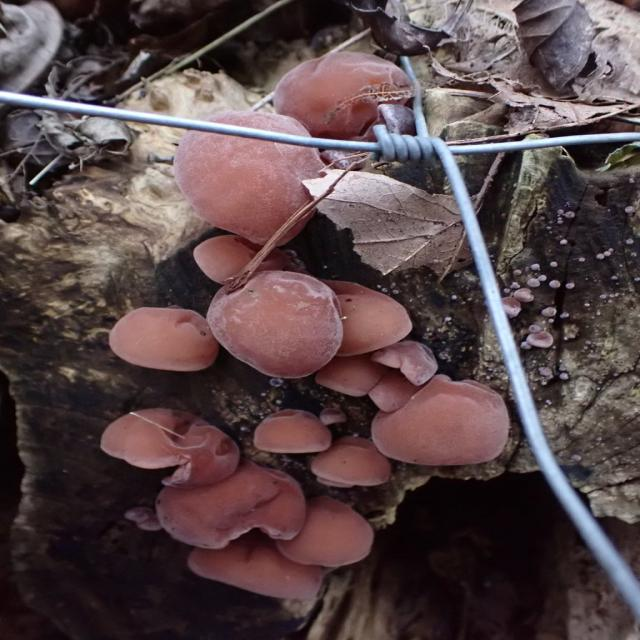Fase Muda: (109, 302, 212, 378), (302, 433, 393, 487), (257, 404, 326, 458), (321, 352, 375, 400), (380, 336, 437, 379), (366, 372, 413, 414)
Matang: (176, 96, 325, 245), (200, 268, 342, 387), (366, 367, 507, 467), (280, 47, 414, 145), (152, 464, 308, 548), (182, 531, 341, 608), (104, 404, 245, 486), (304, 270, 410, 356), (281, 494, 380, 570), (181, 236, 308, 288)
primordia: (525, 331, 560, 351), (320, 405, 348, 428), (495, 294, 520, 318), (539, 301, 562, 318), (516, 288, 532, 304), (530, 320, 548, 334)
